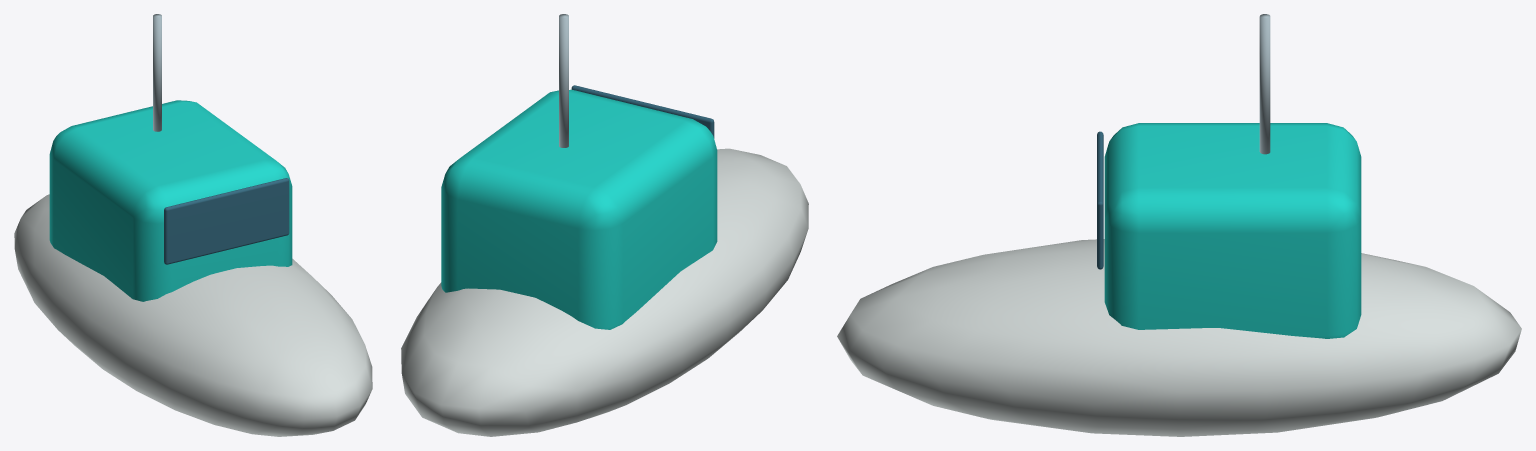
The model's file is Harbor_boat_LOD1.glb.
The picture shows the model from 3 angles, left to right: view 1: azimuth 30°, elevation 25°; view 2: azimuth 150°, elevation 25°; view 3: azimuth 270°, elevation 25°; orthographic projection. The views are drawn at different scales.
Parts seen in each view (by area): view 1: Boat hull, Cabin, Windshield, Mast; view 2: Cabin, Boat hull, Mast, Windshield; view 3: Boat hull, Cabin, Mast, Windshield.
Part boxes in pixels (x1=…): Boat hull: x1=14, y1=194, x2=372, y2=436; Cabin: x1=49, y1=100, x2=292, y2=301; Windshield: x1=164, y1=178, x2=289, y2=264; Mast: x1=153, y1=14, x2=161, y2=131; Cabin: x1=441, y1=89, x2=717, y2=329; Boat hull: x1=401, y1=148, x2=808, y2=436; Mast: x1=559, y1=14, x2=568, y2=147; Windshield: x1=571, y1=85, x2=714, y2=138; Boat hull: x1=837, y1=239, x2=1521, y2=436; Cabin: x1=1104, y1=123, x2=1361, y2=338; Mast: x1=1259, y1=14, x2=1270, y2=154; Windshield: x1=1097, y1=131, x2=1103, y2=269.
Size of the model in its own units: 1.4 by 2.05 by 3.2.
